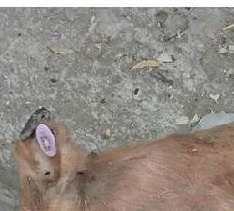text: (21, 118, 72, 164)
